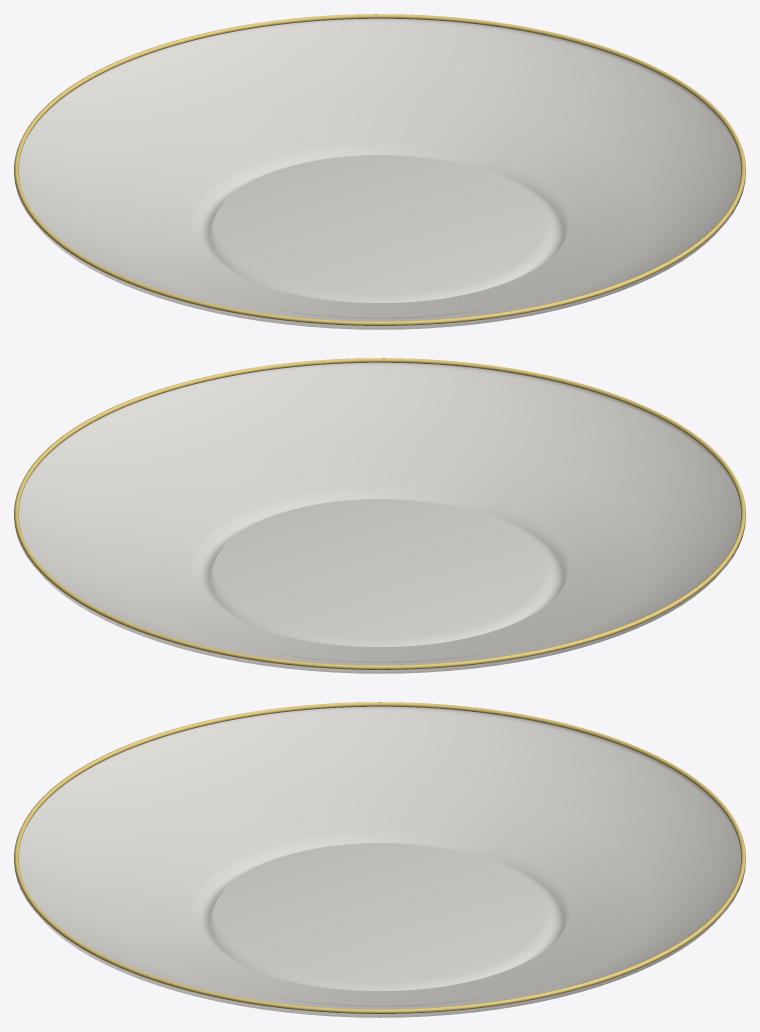
Rendered from plato-llano-27cm.glb.
3 views of the same model, one above another, from view 1: azimuth 30°, elevation 25°; view 2: azimuth 150°, elevation 25°; view 3: azimuth 270°, elevation 25° (orthographic).
Parts seen in each view (by area): view 1: Plato, Filo; view 2: Plato, Filo; view 3: Plato, Filo.
Part boxes in pixels (x1,y1,x2,y2): Plato: (14, 18, 745, 329); Filo: (14, 14, 745, 325); Plato: (14, 362, 745, 673); Filo: (14, 358, 745, 669); Plato: (14, 706, 745, 1017); Filo: (14, 702, 745, 1013).
Size of the model in its own units: 0.27 by 0.0267 by 0.27.
